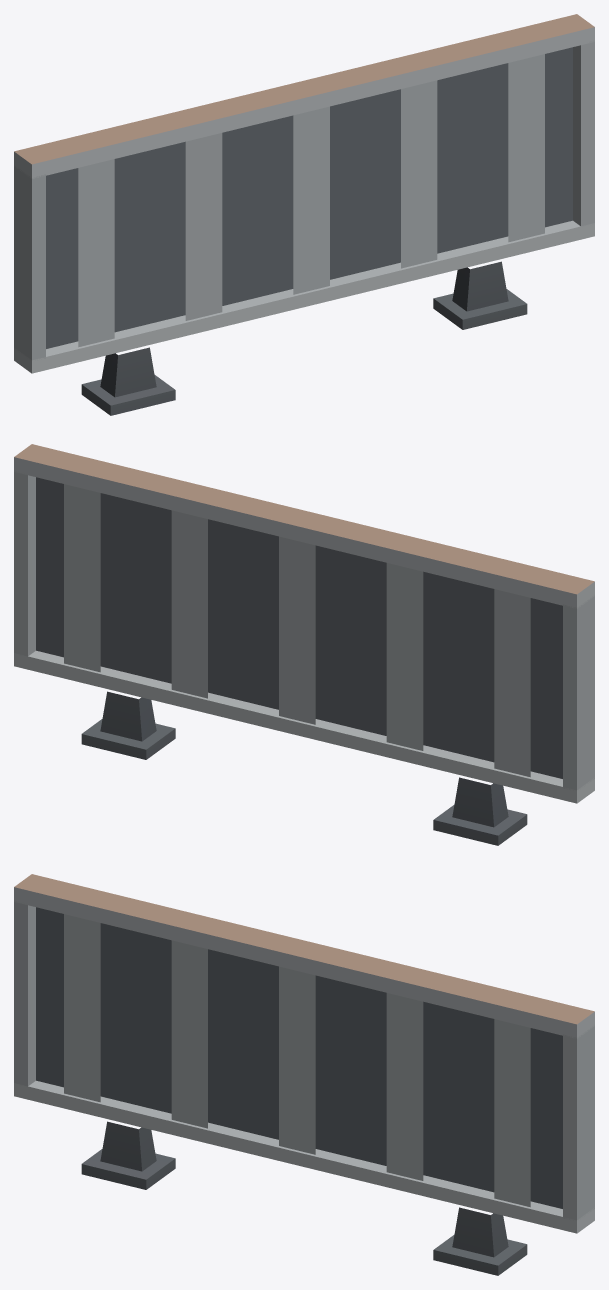
The model's file is radiator.lod2.glb.
The picture shows the model from 3 angles, top to bottom: view 1: azimuth 30°, elevation 25°; view 2: azimuth 150°, elevation 25°; view 3: azimuth 330°, elevation 25°; orthographic projection.
Size of the model in its own units: 4 by 1.8 by 0.36.
